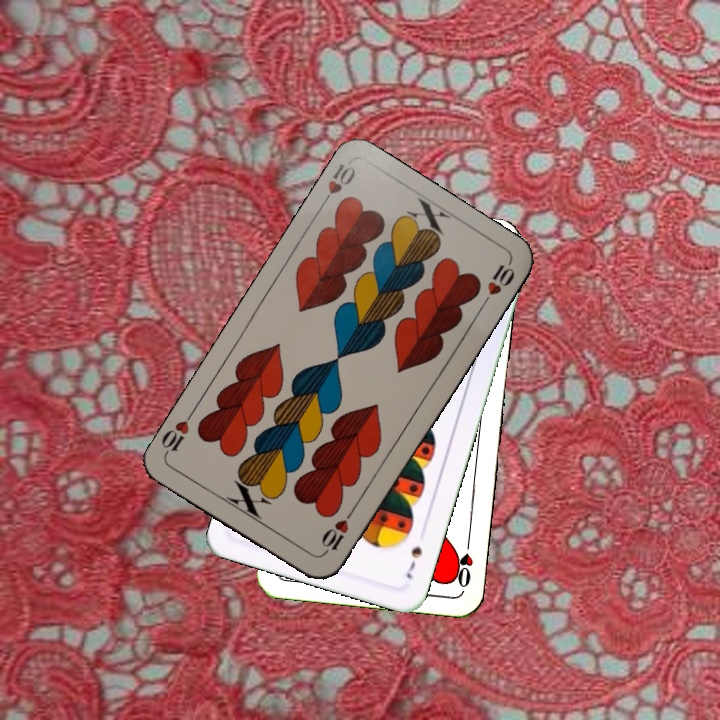H10: (316, 158, 359, 211), (317, 504, 358, 557)
HO: (450, 533, 476, 591)
S7: (402, 542, 425, 582)
